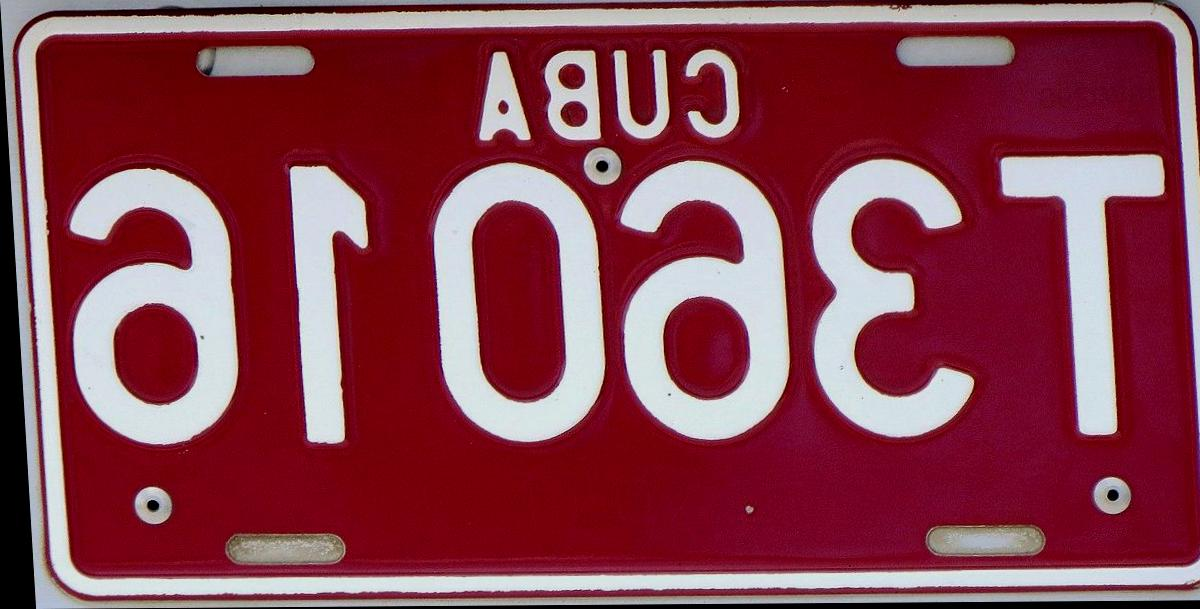License_Plate: (19, 14, 1200, 581)
